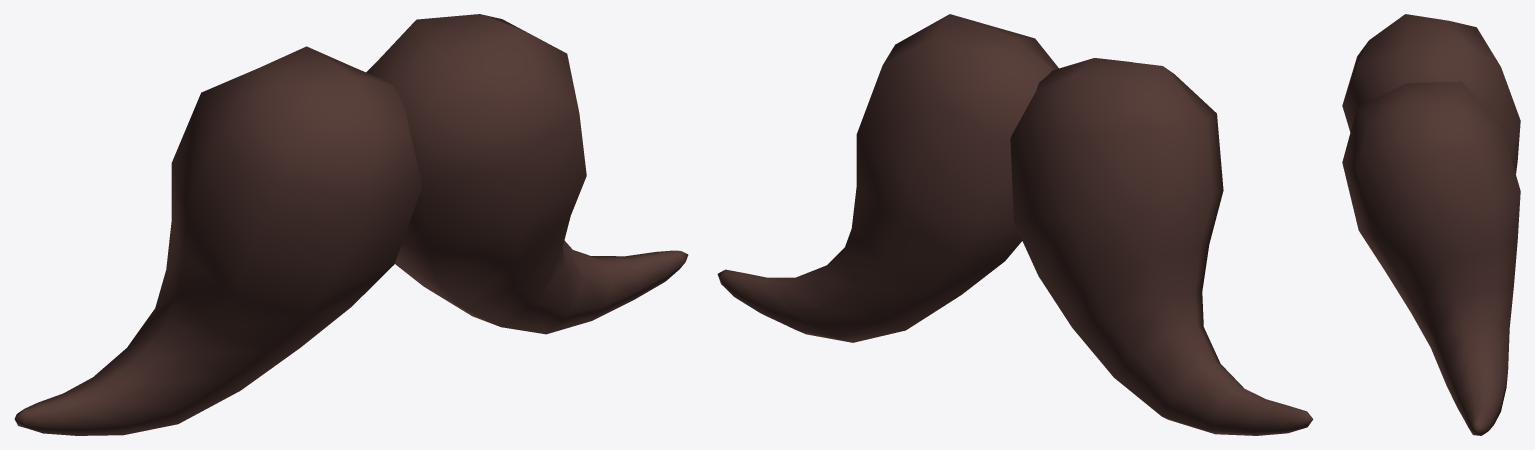
The model's file is Mustache_Brown_009.glb.
The picture shows the model from 3 angles, left to right: view 1: azimuth 30°, elevation 25°; view 2: azimuth 150°, elevation 25°; view 3: azimuth 270°, elevation 25°; orthographic projection. The views are drawn at different scales.
Visible parts, largest first — view 1: Mustache_Brown_009; view 2: Mustache_Brown_009; view 3: Mustache_Brown_009.
Boxes of the visible parts, box(x1,y1,x2,y2) form: Mustache_Brown_009: box(14, 14, 688, 435); Mustache_Brown_009: box(717, 14, 1313, 435); Mustache_Brown_009: box(1342, 14, 1520, 435).
Size of the model in its own units: 0.2322 by 0.1157 by 0.0686.
1 material, 1 textured.
